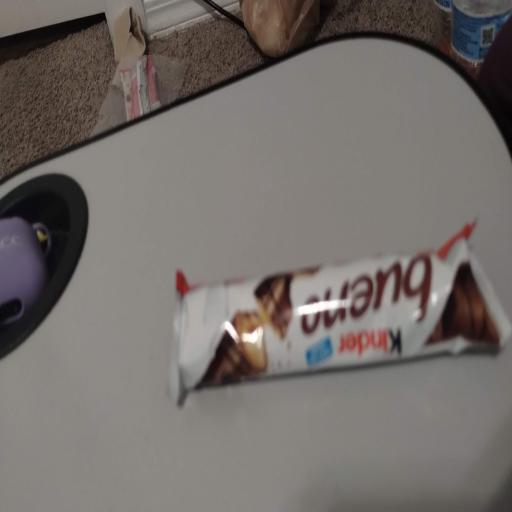chocolate: (170, 225, 510, 402)
waterbottle: (452, 0, 511, 77), (434, 0, 451, 54)
